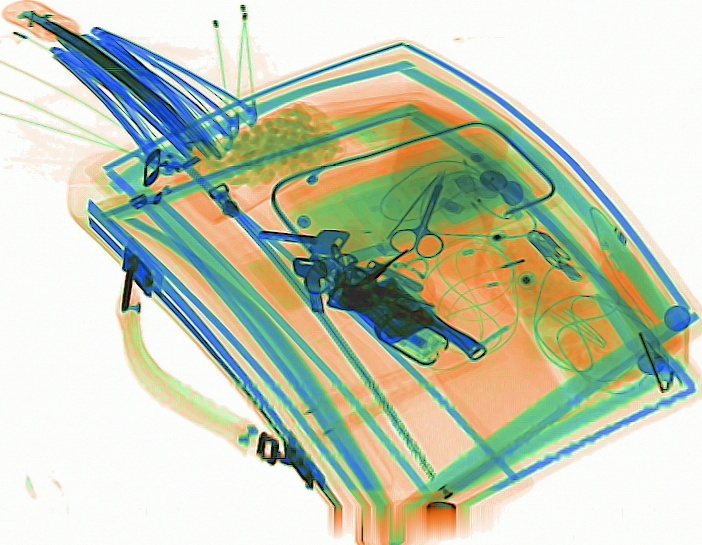scissors: (386, 168, 444, 258)
